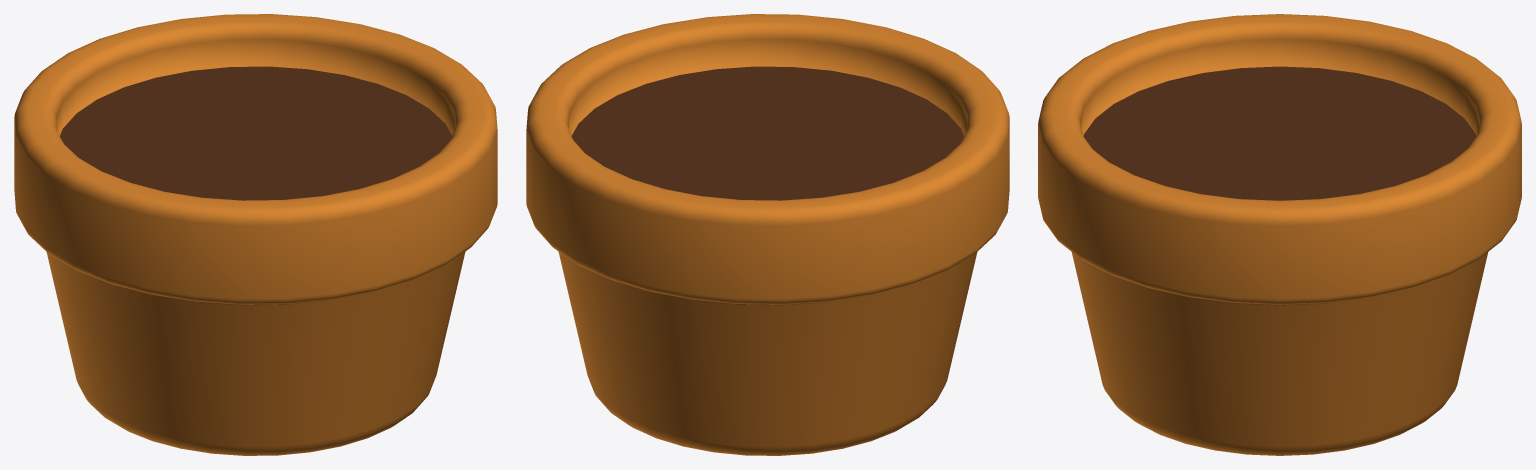
Rendered from pot-classic.glb.
3 renders of one model, left to right at view 1: azimuth 30°, elevation 25°; view 2: azimuth 150°, elevation 25°; view 3: azimuth 270°, elevation 25°, orthographic.
Parts seen in each view (by area): view 1: Pot; view 2: Pot; view 3: Pot.
Boxes of the visible parts, <box> form: Pot: <box>14,14,497,455</box>; Pot: <box>526,14,1009,455</box>; Pot: <box>1038,14,1521,455</box>.
Bounding box in the file's own units: 0.6632 × 0.4177 × 0.6632.
